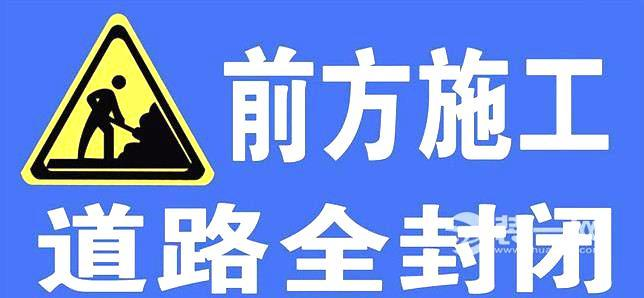sign: (4, 1, 633, 298)
